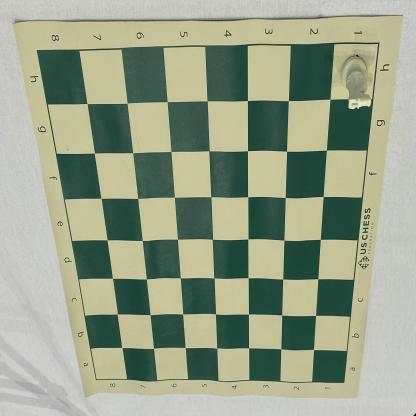white-knight: (340, 54, 372, 110)
